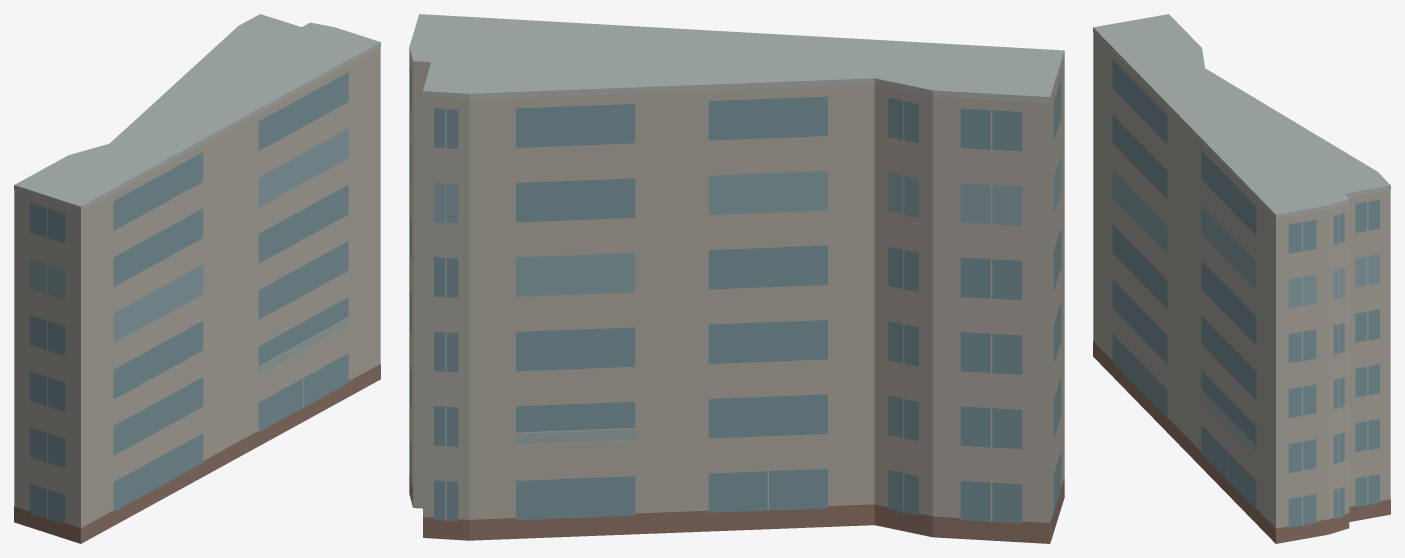
The model's file is survey-upis-32699709.glb.
The picture shows the model from 3 angles, left to right: view 1: azimuth 30°, elevation 25°; view 2: azimuth 150°, elevation 25°; view 3: azimuth 270°, elevation 25°; orthographic projection. The views are drawn at different scales.
Parts seen in each view (by area): view 1: survey-upis-32699709.tmp; view 2: survey-upis-32699709.tmp; view 3: survey-upis-32699709.tmp.
Part boxes in pixels (left/top/right/bottom): survey-upis-32699709.tmp: left=14, top=14, right=380, bottom=543; survey-upis-32699709.tmp: left=409, top=14, right=1064, bottom=543; survey-upis-32699709.tmp: left=1093, top=14, right=1390, bottom=543.
Size of the model in its own units: 22.37 by 17.1 by 14.02.
